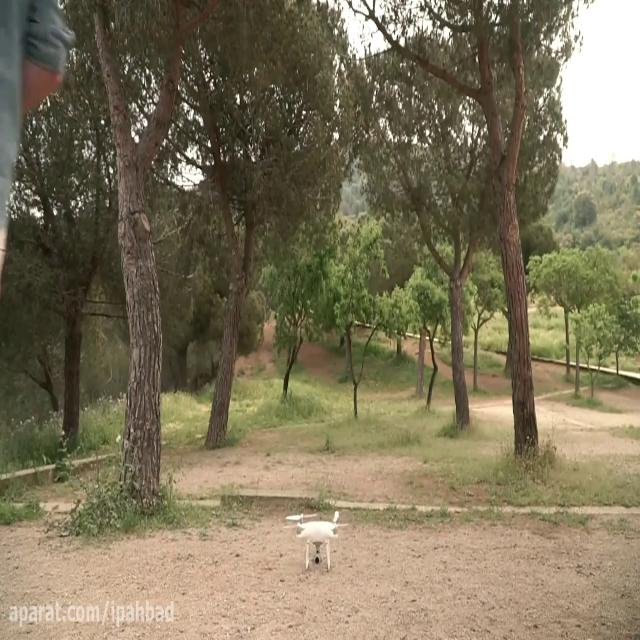drone: (282, 508, 348, 574)
